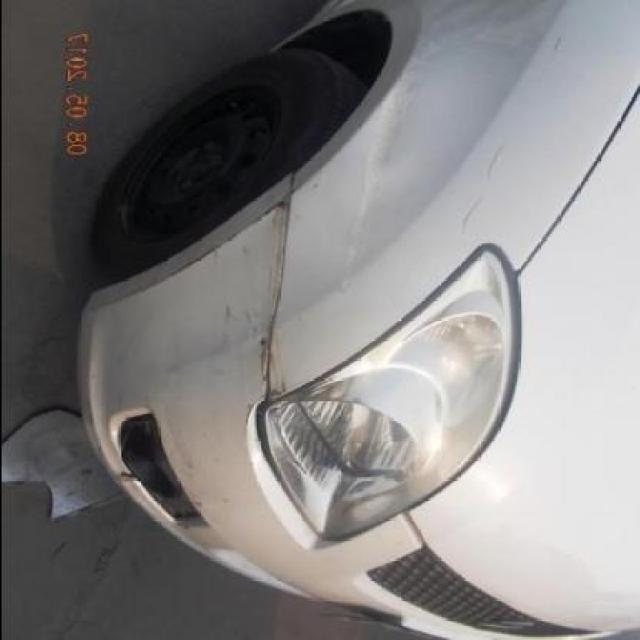damage: (449, 24, 567, 229), (337, 69, 424, 299), (249, 179, 311, 405), (101, 231, 248, 311), (154, 390, 204, 475), (216, 299, 258, 357)
